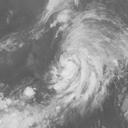cyclone: (48, 22, 109, 107)
